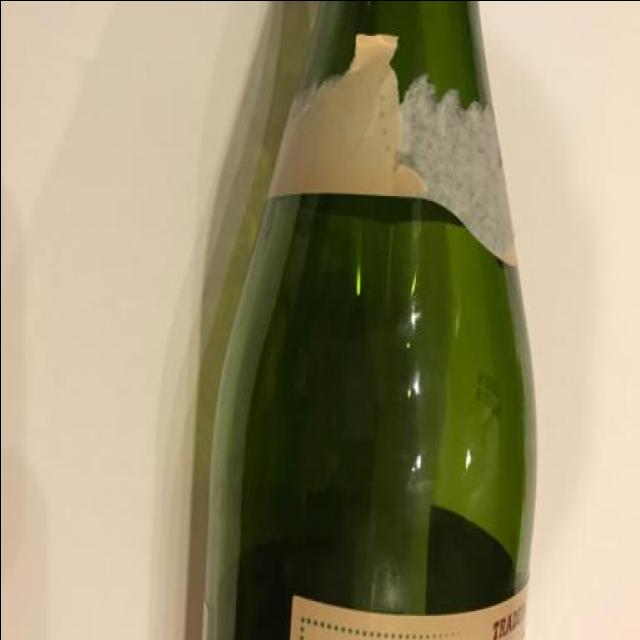glass: (198, 0, 535, 640)
